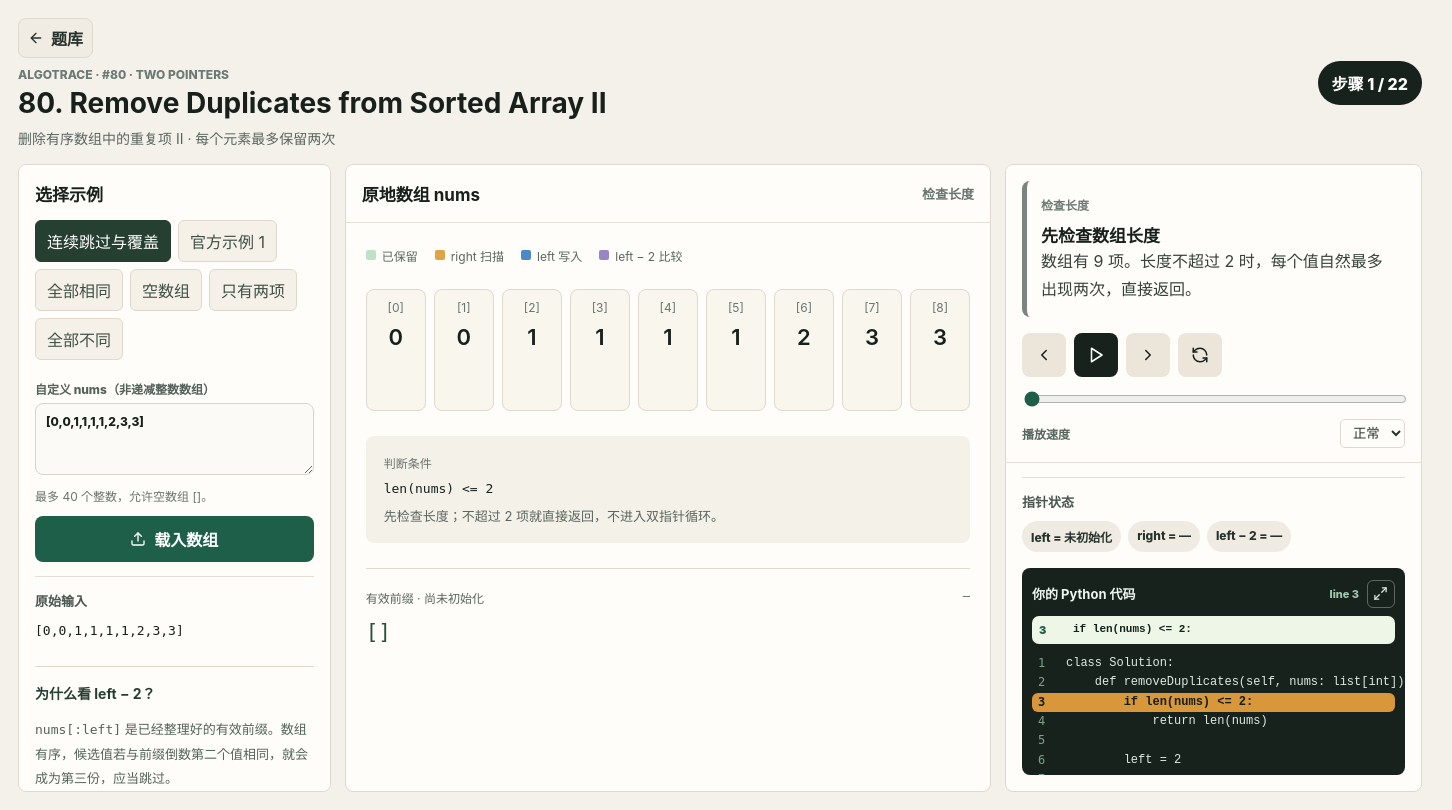
Test: Remove Duplicates II visualizer interactions › automatically stops on the short-circuit answer and can replay it
Click the button "空数组" at (166, 290), box [130,269,202,311]
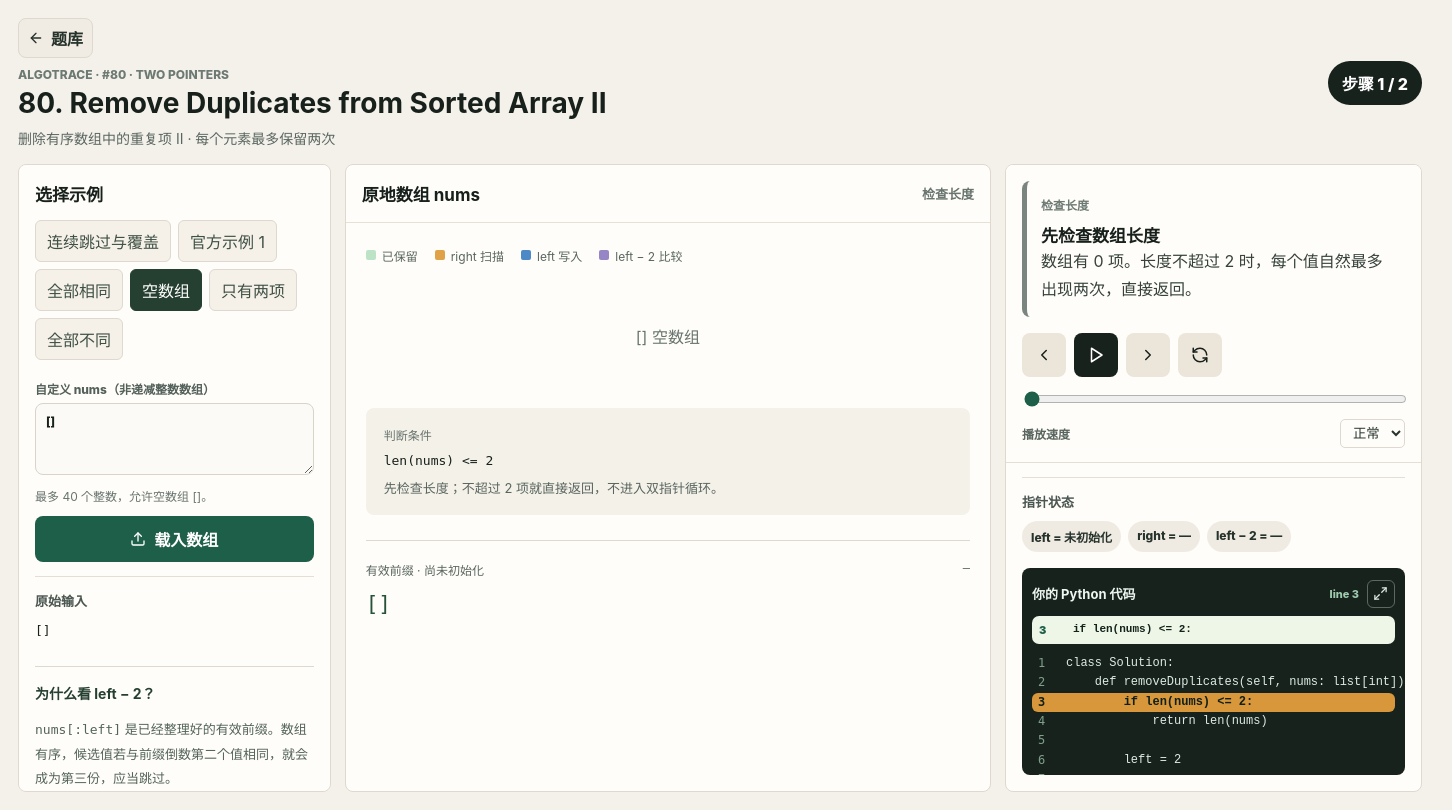
Click the button named "Play" at (1096, 355), box [1074,333,1118,377]
Wait 1100 ms
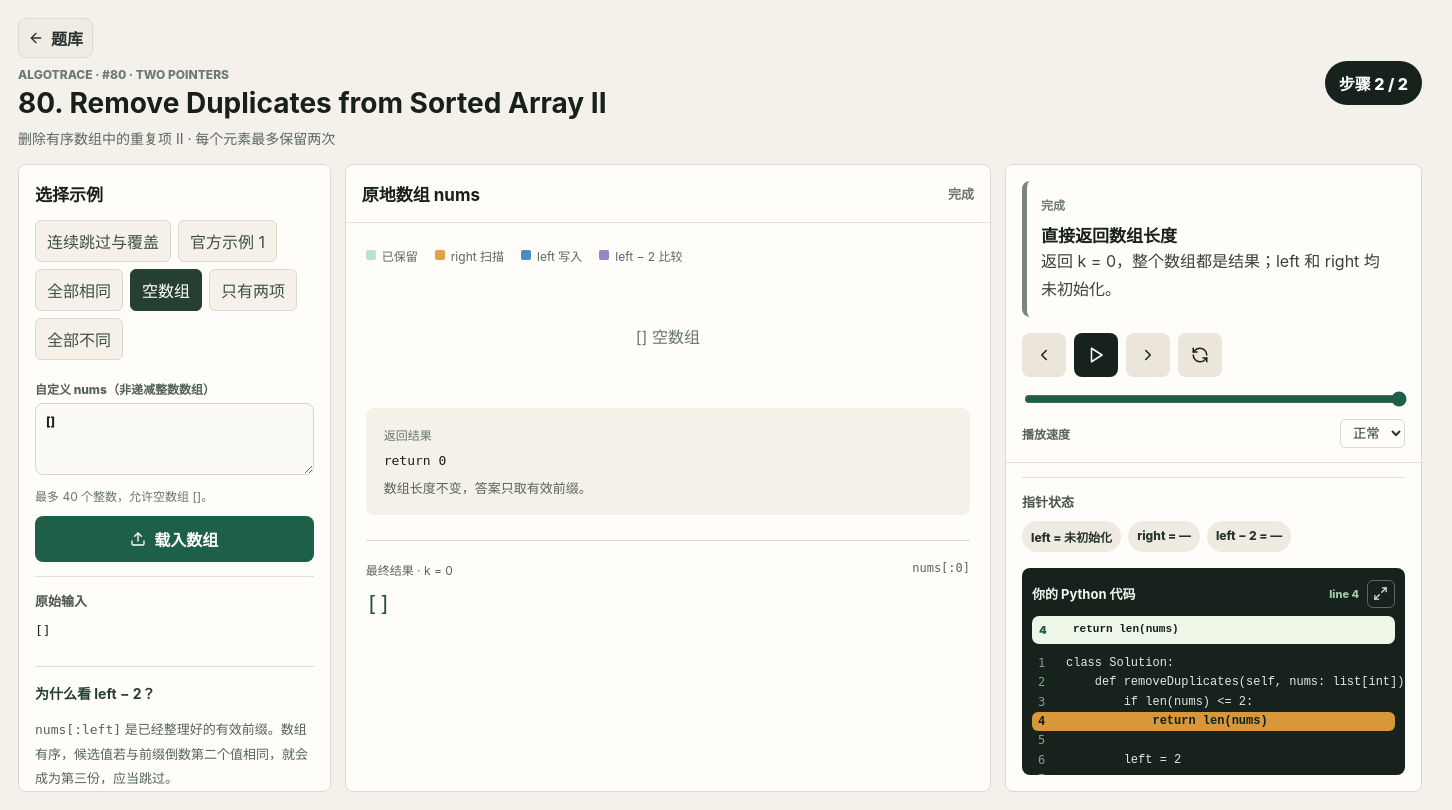
Expected: the text "left = 未初始化" is shown, [1022,521,1121,552]
Now the text "最终结果 · k = 0" is shown, box [366,561,453,578]
Now the slider named "Step slider" holds "1", box [1024,391,1407,407]
Click the button named "Play" at (1096, 355), box [1074,333,1118,377]
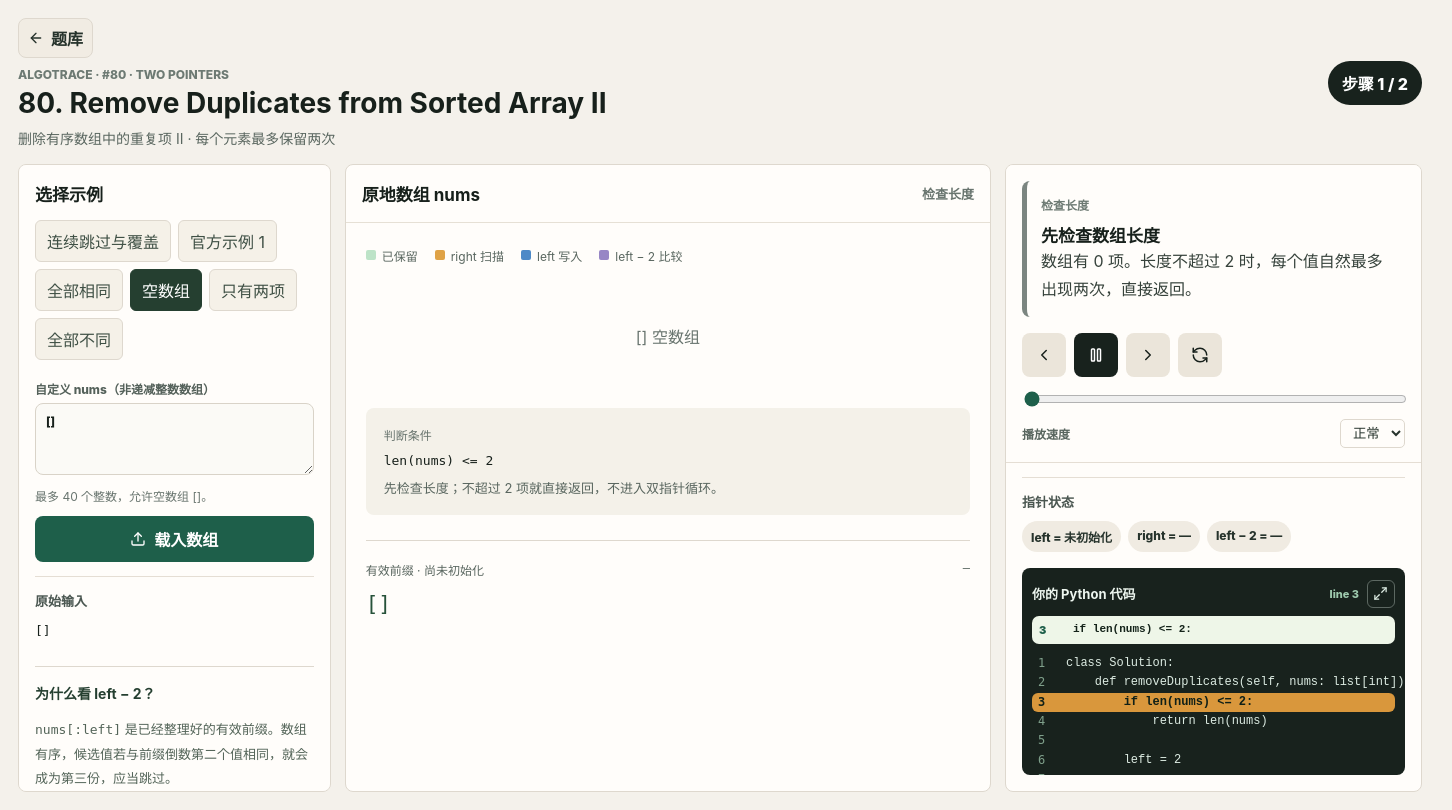
Now the slider named "Step slider" holds "0", box [1024,391,1407,407]
Now the button named "Pause" is shown, box [1074,333,1118,377]
